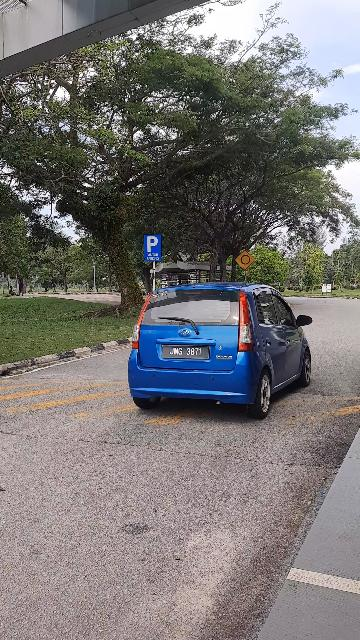License_Plate: (162, 344, 212, 362)
car: (125, 284, 321, 420)
